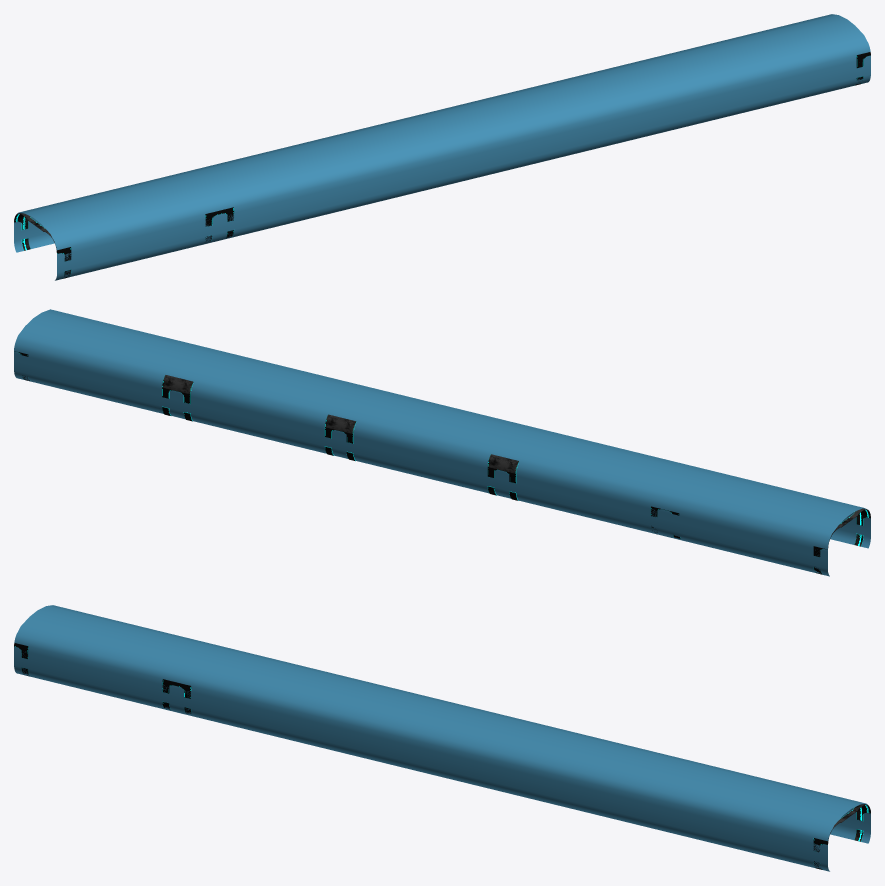
Rendered from RoadDome.fbx.
The picture shows the model from 3 angles, top to bottom: view 1: azimuth 30°, elevation 25°; view 2: azimuth 150°, elevation 25°; view 3: azimuth 330°, elevation 25°; orthographic projection.
Visible parts, largest first — view 1: model_129.004, model_129.001; view 2: model_129.004, model_129.001; view 3: model_129.004, model_129.001.
Part boxes in pixels (<box>): model_129.004: <box>14,14,870,280</box>; model_129.001: <box>14,52,870,278</box>; model_129.004: <box>14,309,870,576</box>; model_129.001: <box>14,351,870,574</box>; model_129.004: <box>14,605,870,871</box>; model_129.001: <box>14,643,870,869</box>.
Bounding box in the file's own units: 67709 × 3771 × 6276.
2 materials, 2 textured.
